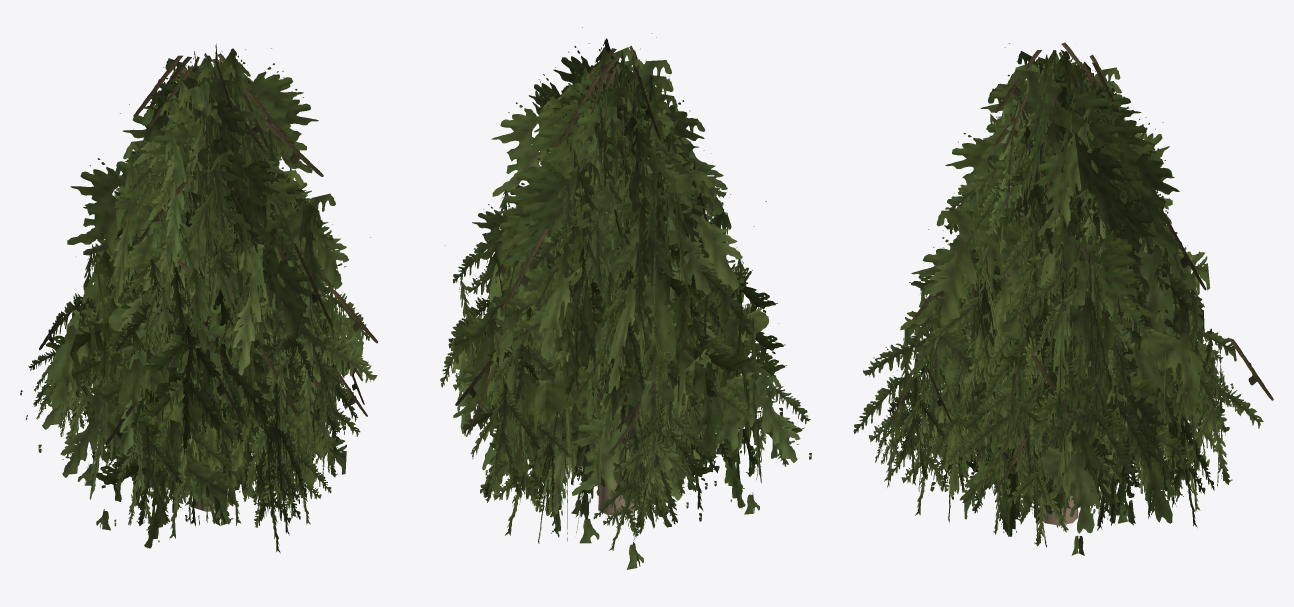
The model's file is pine-tree-lod0.glb.
The picture shows the model from 3 angles, left to right: view 1: azimuth 30°, elevation 25°; view 2: azimuth 150°, elevation 25°; view 3: azimuth 270°, elevation 25°; orthographic projection. The views are drawn at different scales.
Visible parts, largest first — view 1: foliage; view 2: foliage, trunk; view 3: foliage.
Part boxes in pixels (x1=…): foliage: x1=20, y1=43, x2=378, y2=553; foliage: x1=440, y1=27, x2=811, y2=569; trunk: x1=598, y1=480, x2=634, y2=515; foliage: x1=853, y1=42, x2=1273, y2=555.
Bounding box in the file's own units: 0.9336 × 1.25 × 0.9871.
2 materials, 1 textured.
